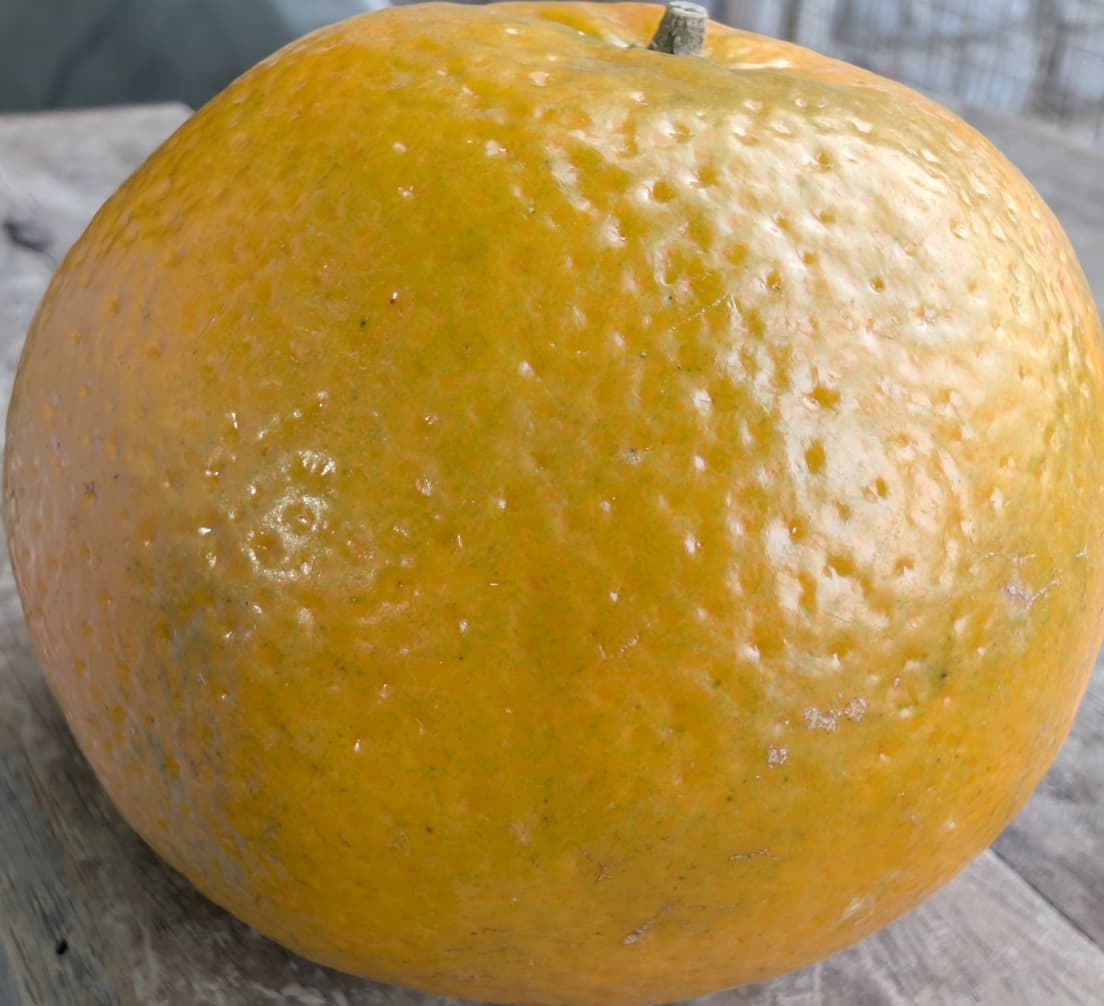orange: (40, 55, 942, 808)
